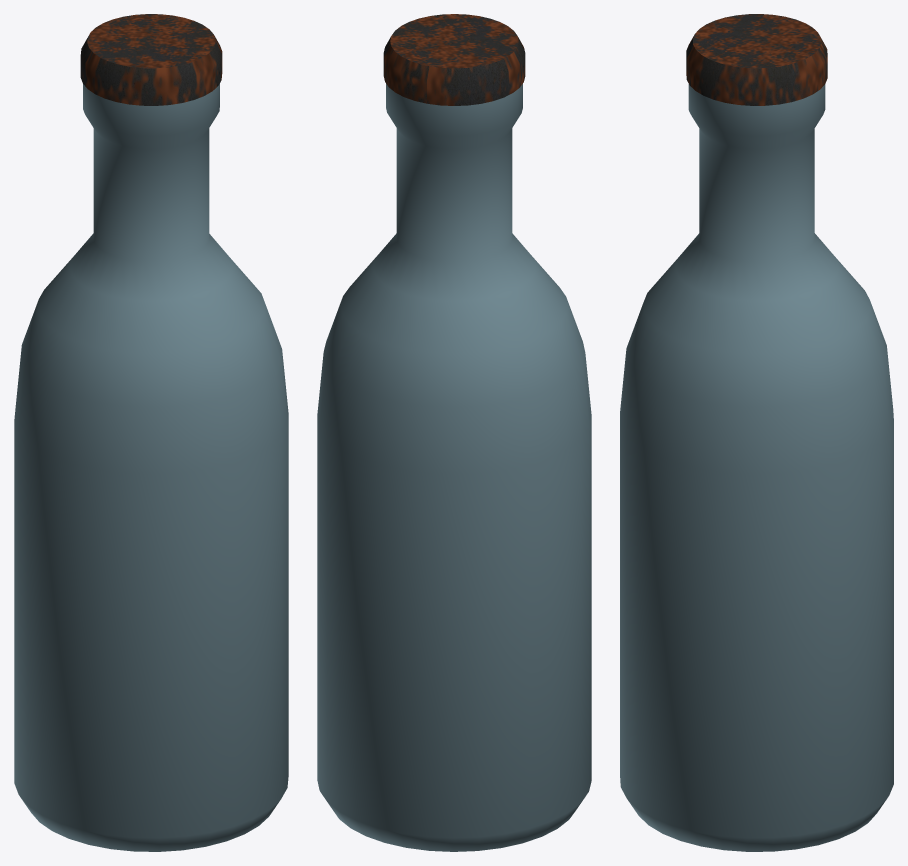
The model's file is SM_Bottle_e74cdbb2a6.fbx.
3 renders of one model, left to right at view 1: azimuth 30°, elevation 25°; view 2: azimuth 150°, elevation 25°; view 3: azimuth 270°, elevation 25°, orthographic.
Visible parts, largest first — view 1: SM_Bottle_e74cdbb2a6; view 2: SM_Bottle_e74cdbb2a6; view 3: SM_Bottle_e74cdbb2a6.
Boxes of the visible parts, bbox=[...] form: SM_Bottle_e74cdbb2a6: bbox=[14, 14, 288, 851]; SM_Bottle_e74cdbb2a6: bbox=[317, 14, 591, 851]; SM_Bottle_e74cdbb2a6: bbox=[620, 14, 893, 851].
Size of what is drawn, in the model's own units: 12.77 by 12.77 by 39.4.
2 materials, 1 textured.
